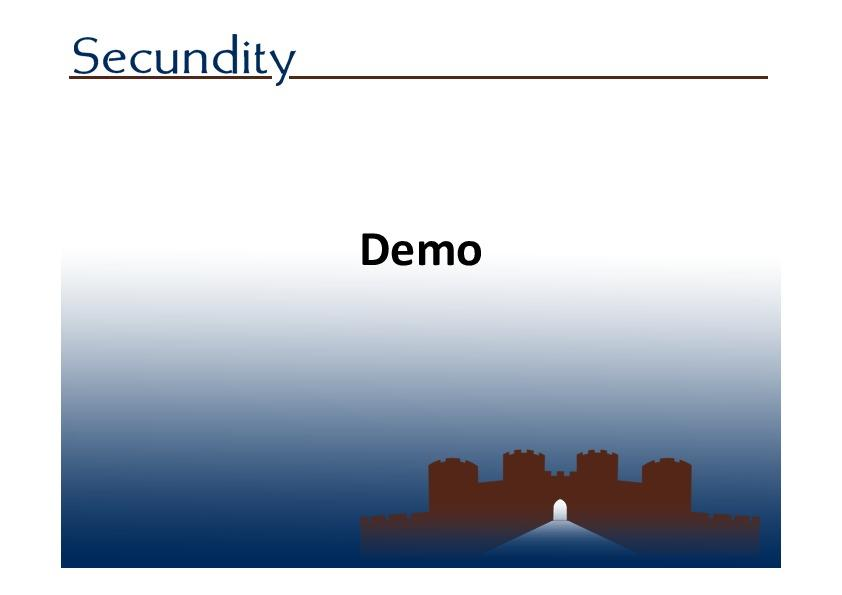subtitle: (360, 223, 512, 288)
title: (58, 23, 308, 92)
